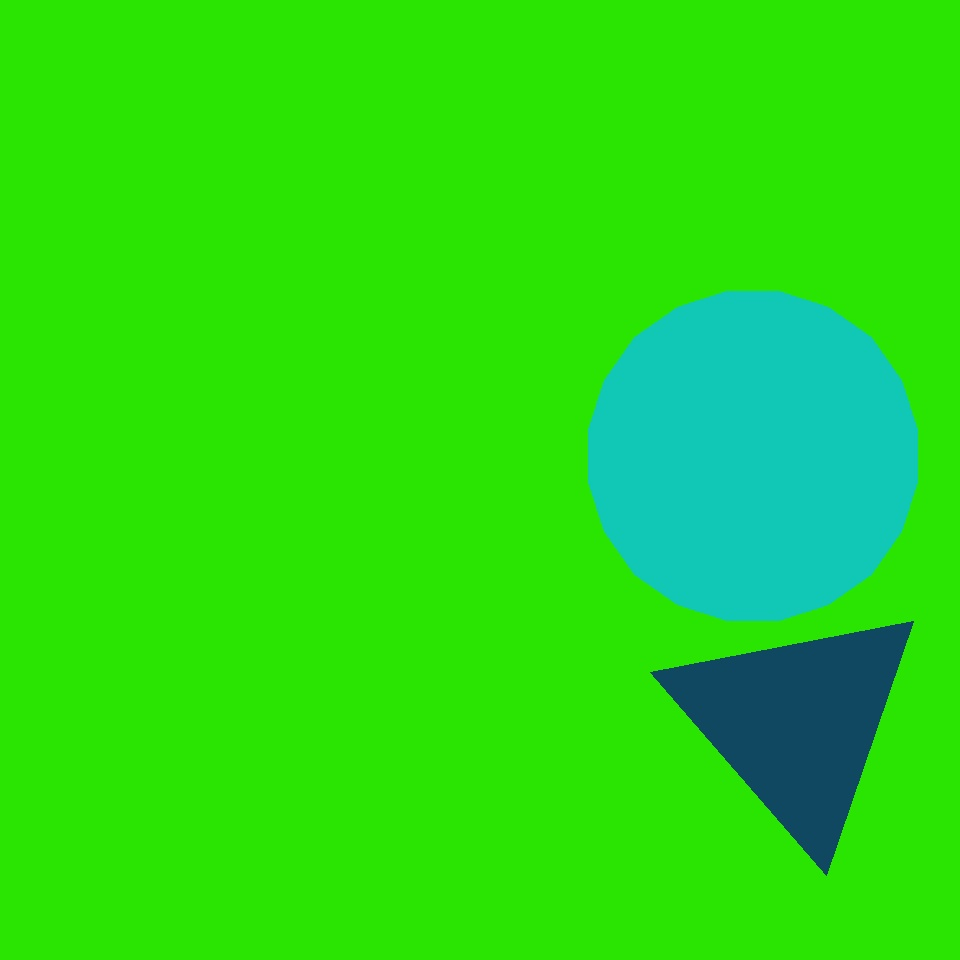circle: (666, 596, 928, 850)
triangle: (588, 291, 918, 620), (395, 112, 681, 398), (690, 540, 923, 773), (690, 658, 911, 878)
